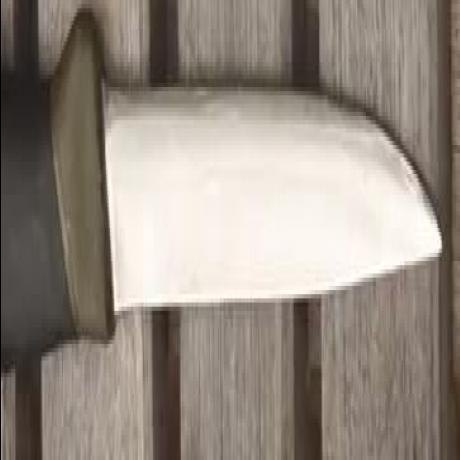weapon: (96, 83, 453, 356)
